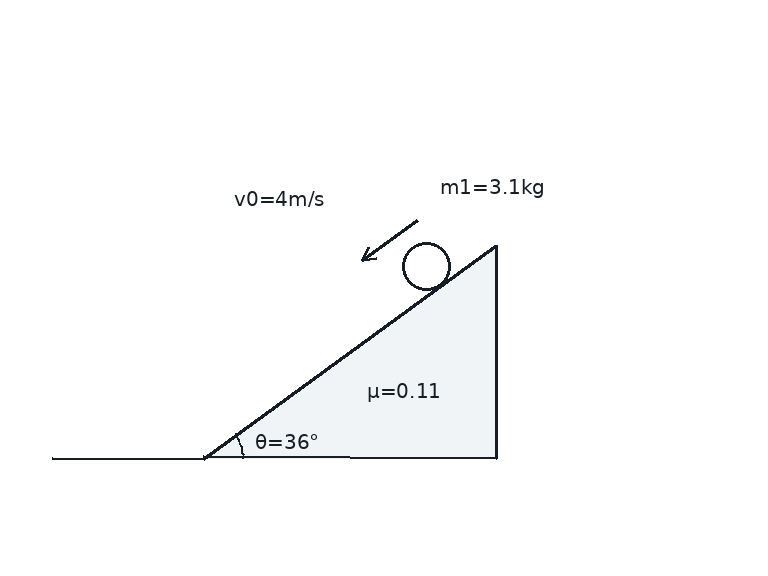ball: (400, 240, 452, 292)
ramp: (201, 244, 497, 460)
